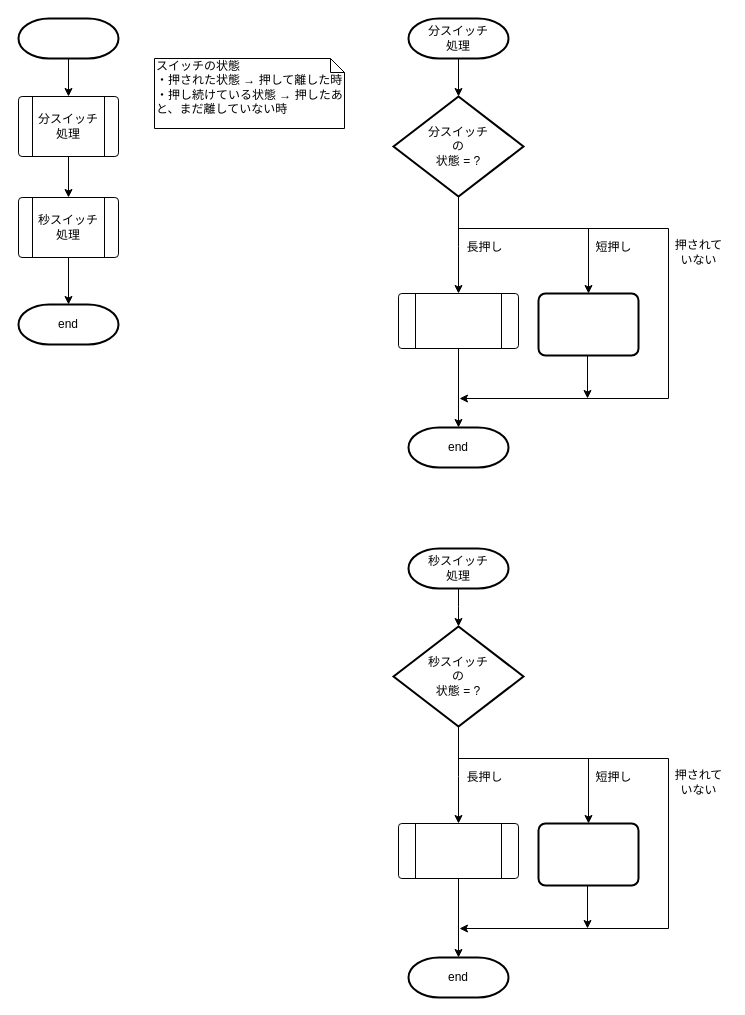
Image size: 745x1015. Some labels were removed from this diagram. Each missing label, with the centre of its shape:
"1分 増やす" belongs at point 588,324.
"1秒 増やす" belongs at point 588,854.
"カウント時間設定" belongs at point 68,38.
"分長押し 処理" belongs at point 458,320.
"秒長押し 処理" belongs at point 458,850.
